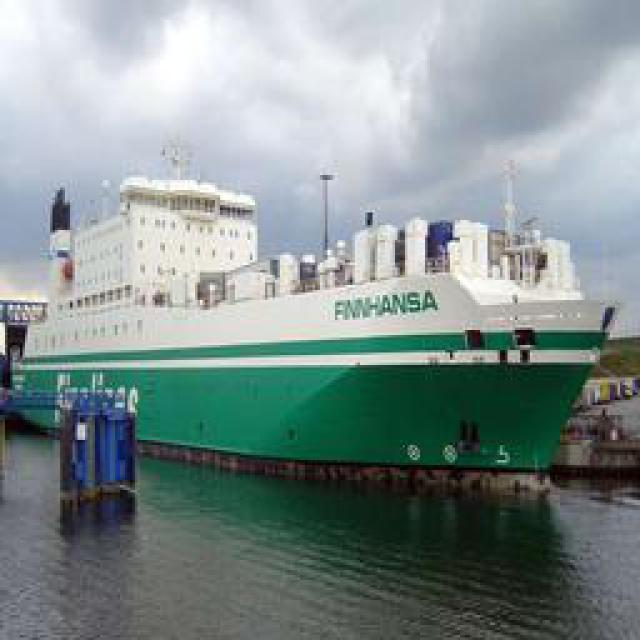Ship: (18, 151, 623, 489)
